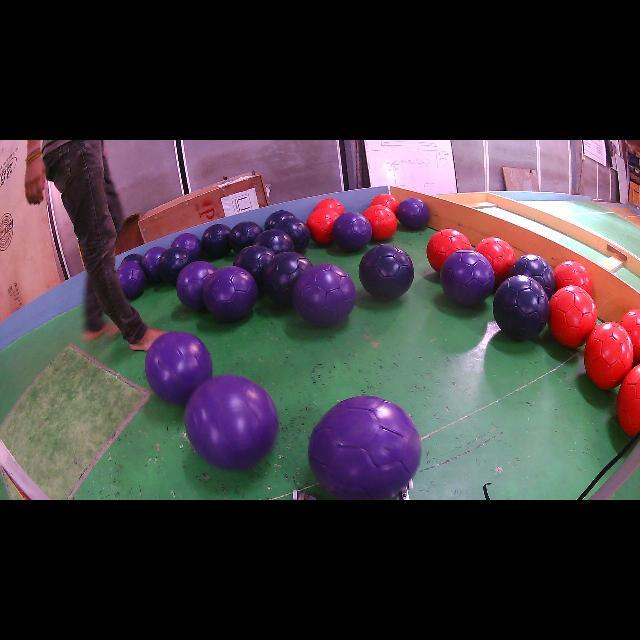B: (492, 275, 550, 340), (359, 244, 414, 300), (262, 251, 312, 304), (509, 254, 555, 299), (232, 245, 275, 288), (158, 246, 192, 285), (275, 218, 310, 252), (254, 229, 295, 254), (229, 221, 262, 252), (201, 224, 230, 258), (264, 210, 295, 230)
P: (309, 395, 421, 500), (185, 375, 279, 469), (145, 331, 212, 405), (292, 264, 355, 326), (202, 266, 258, 321), (440, 250, 495, 306), (176, 261, 216, 310), (331, 212, 372, 251), (396, 198, 430, 230), (118, 261, 146, 299), (141, 246, 165, 283), (171, 232, 201, 261)
R: (584, 322, 634, 390), (549, 285, 598, 348), (475, 238, 516, 287), (426, 229, 472, 272), (306, 199, 345, 244), (616, 365, 640, 436), (554, 260, 592, 294), (364, 205, 398, 241), (306, 209, 339, 244), (620, 309, 640, 364), (370, 194, 400, 214)
